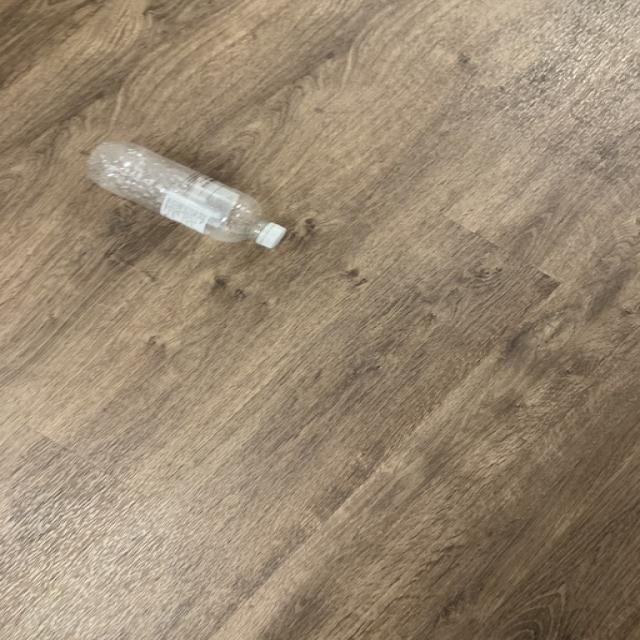bottle: (85, 143, 288, 249)
